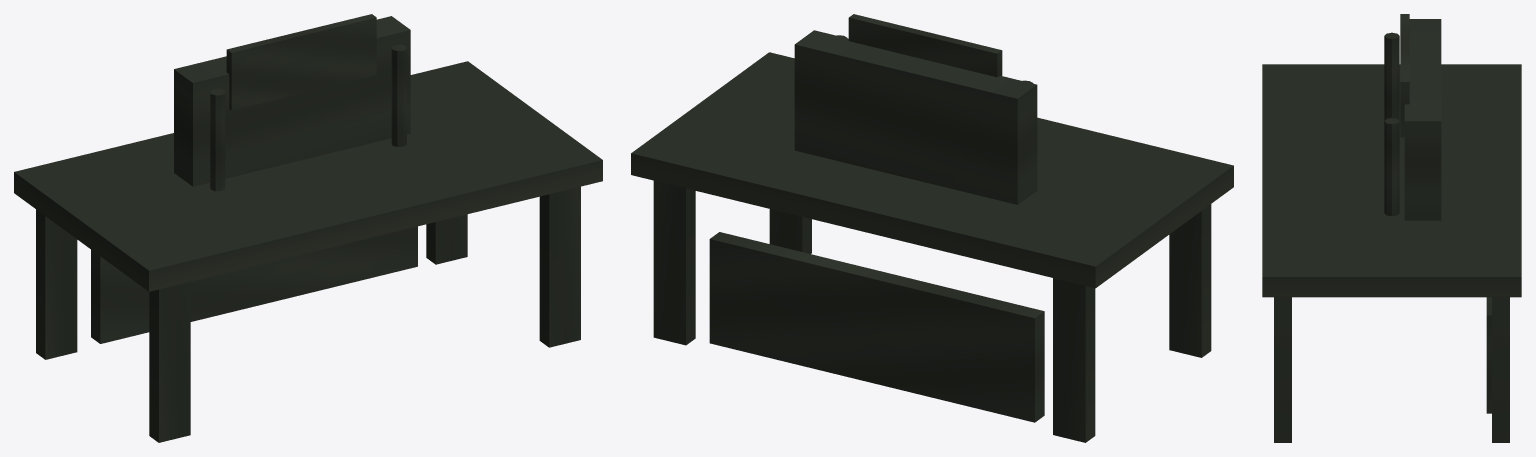
File: prop_radio_field_desk_a.glb
The picture shows the model from 3 angles, left to right: view 1: azimuth 30°, elevation 25°; view 2: azimuth 150°, elevation 25°; view 3: azimuth 270°, elevation 25°; orthographic projection. The views are drawn at different scales.
Parts seen in each view (by area): view 1: prop_radio_field_desk_a; view 2: prop_radio_field_desk_a; view 3: prop_radio_field_desk_a.
Boxes of the visible parts, box(x1,y1,x2,y2) form: prop_radio_field_desk_a: box(14, 14, 602, 442); prop_radio_field_desk_a: box(631, 14, 1233, 442); prop_radio_field_desk_a: box(1262, 14, 1521, 442).
Bounding box in the file's own units: 1.65 × 1.07 × 0.85.
Materials: 1 (1 with a texture image).
